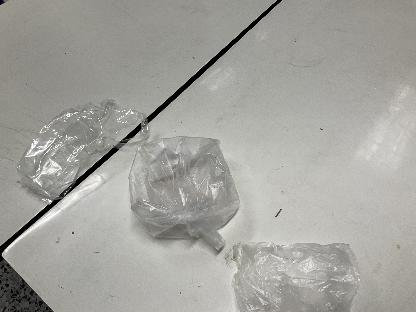Others: (10, 90, 152, 200), (118, 134, 242, 248), (231, 240, 364, 312)
